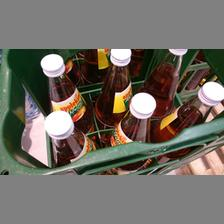Saft: (38, 50, 94, 130), (106, 92, 158, 163), (93, 48, 133, 128), (42, 112, 100, 164)
